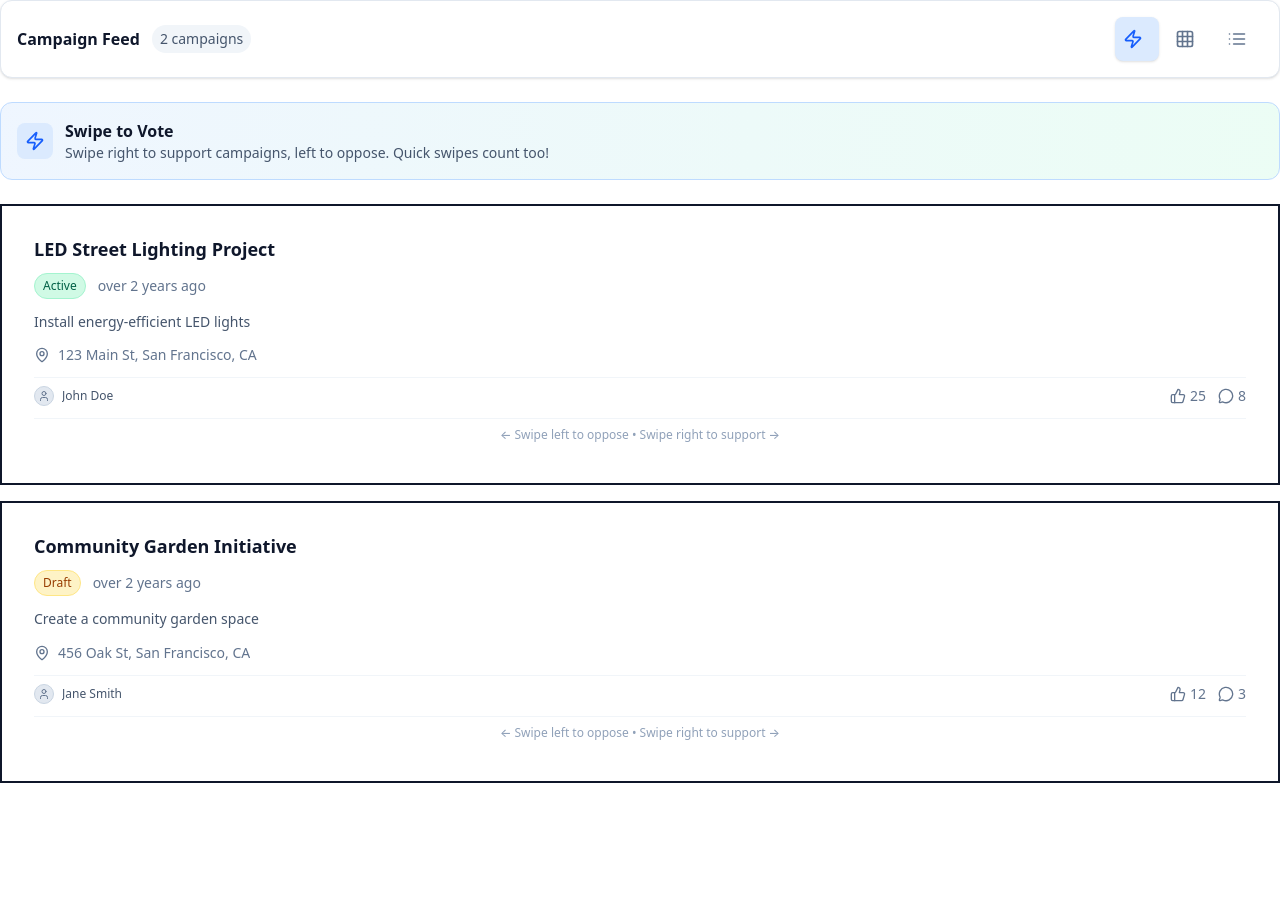
Test: EnhancedCampaignList › Layout Variations › applies grid layout classes in grid mode
The image size is (1280, 900).
Click the button titled "Grid View".
click(1189, 39)  # box [1167,17,1211,61]
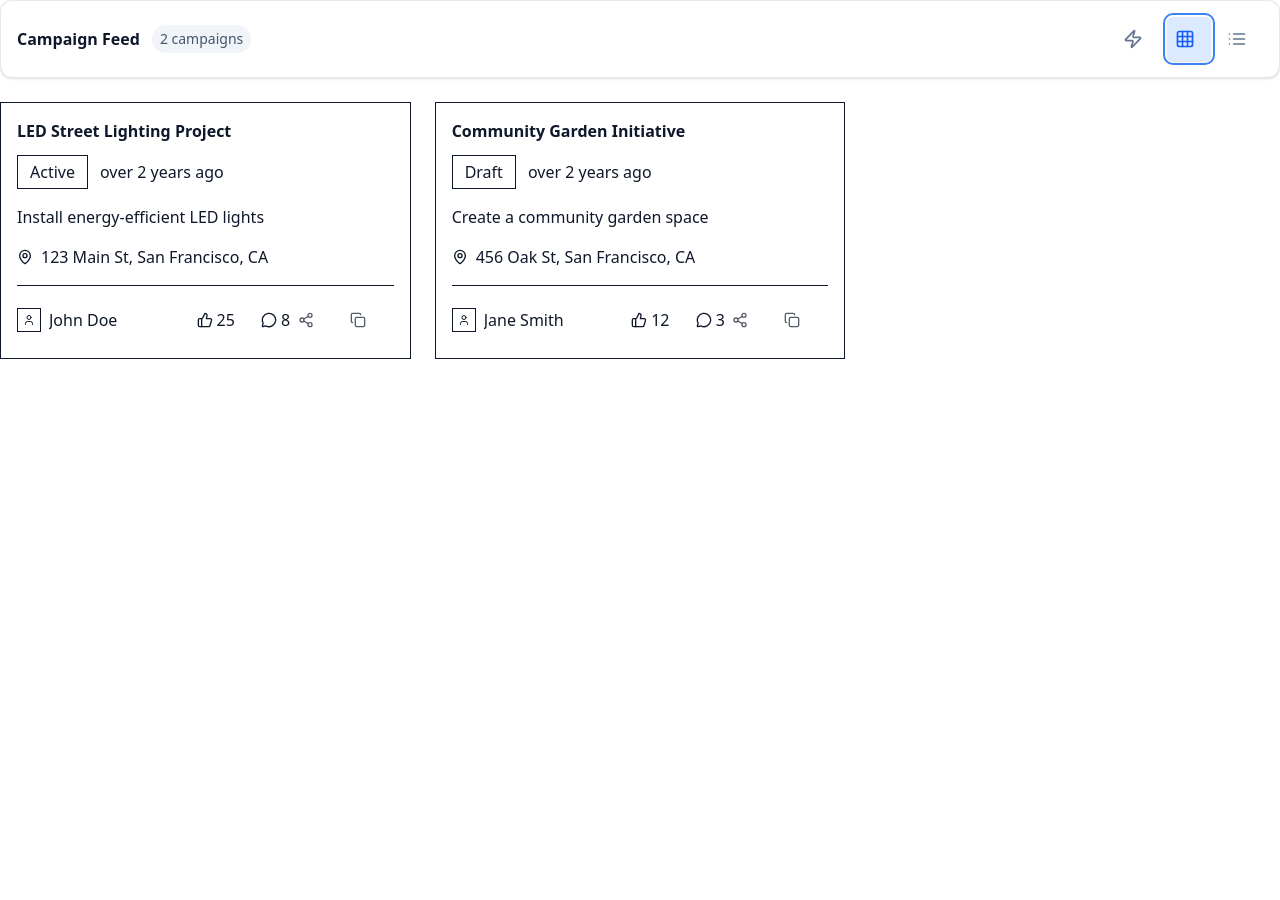
Expected: the element that starts with "LED Street Lighting Project" is shown, [0,102,845,359]
